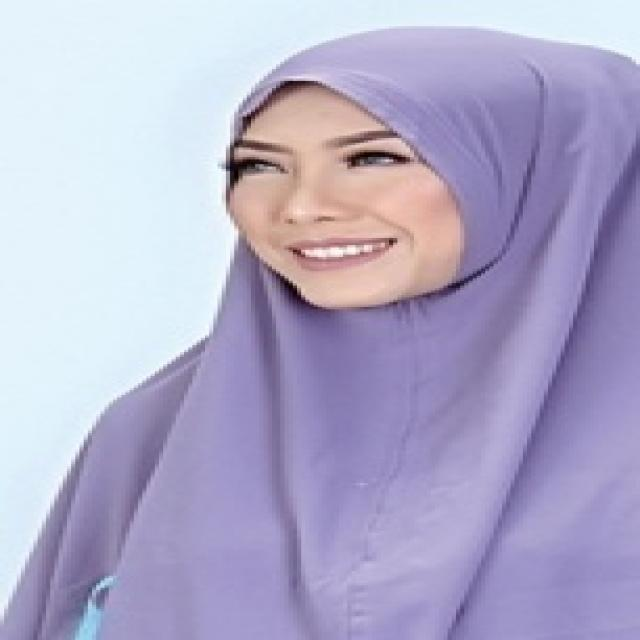head: (213, 28, 600, 318)
